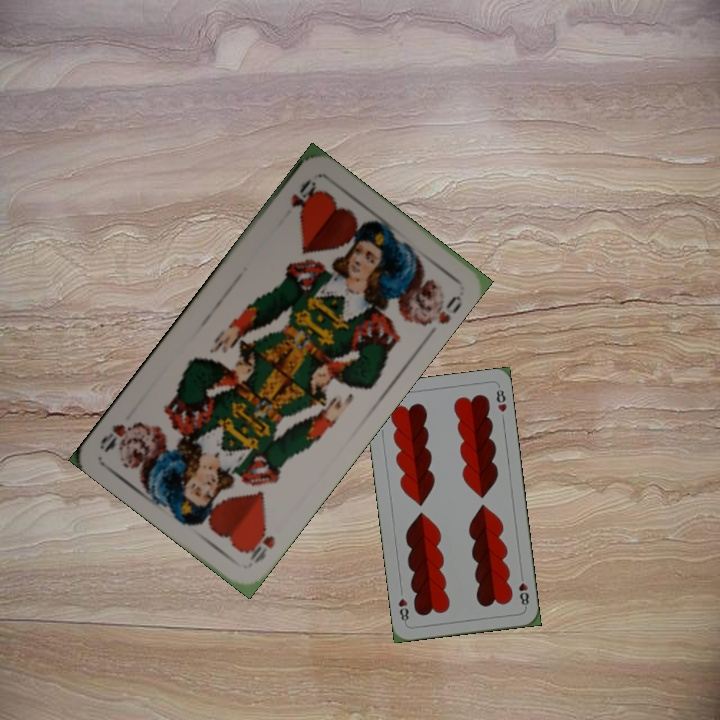H8: (515, 570, 531, 610)
HO: (241, 520, 278, 567), (286, 174, 319, 211)
